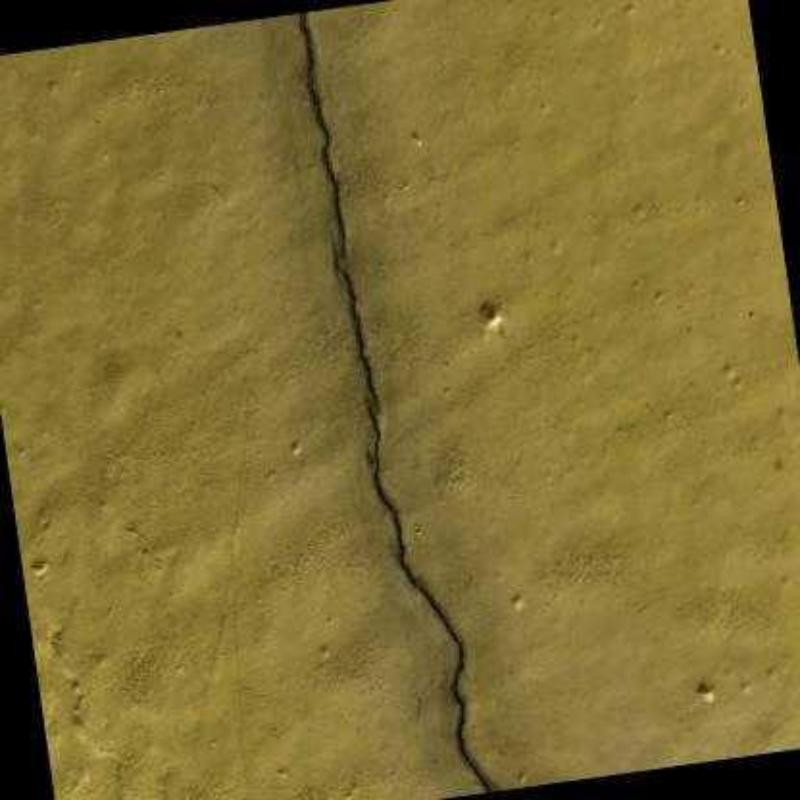crack: (369, 407, 496, 793), (300, 12, 348, 267), (336, 257, 380, 408)
